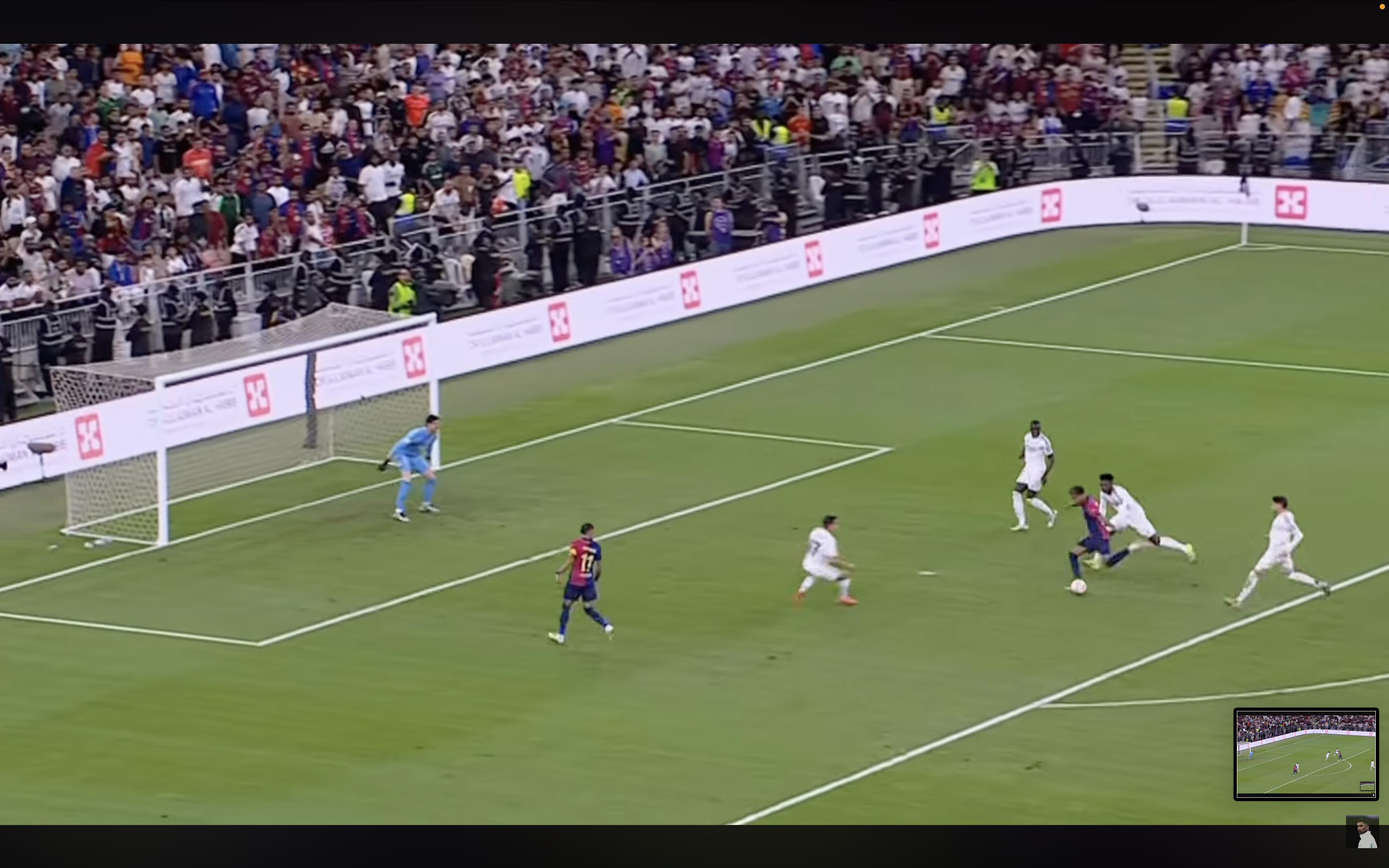ball: (1069, 579, 1087, 595)
goalkeeper: (378, 415, 440, 522)
player: (1225, 496, 1331, 608), (1100, 473, 1196, 562), (548, 523, 613, 644), (1069, 486, 1130, 580), (795, 515, 857, 606), (1012, 420, 1057, 531), (1325, 749, 1344, 761), (1294, 763, 1299, 774)
